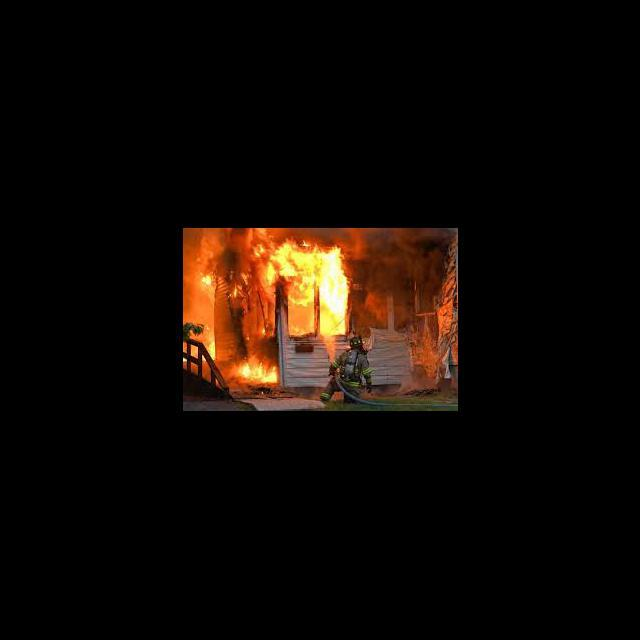Fire: (267, 242, 347, 342), (237, 359, 280, 388), (202, 336, 215, 362), (198, 273, 214, 288), (182, 357, 188, 363)
